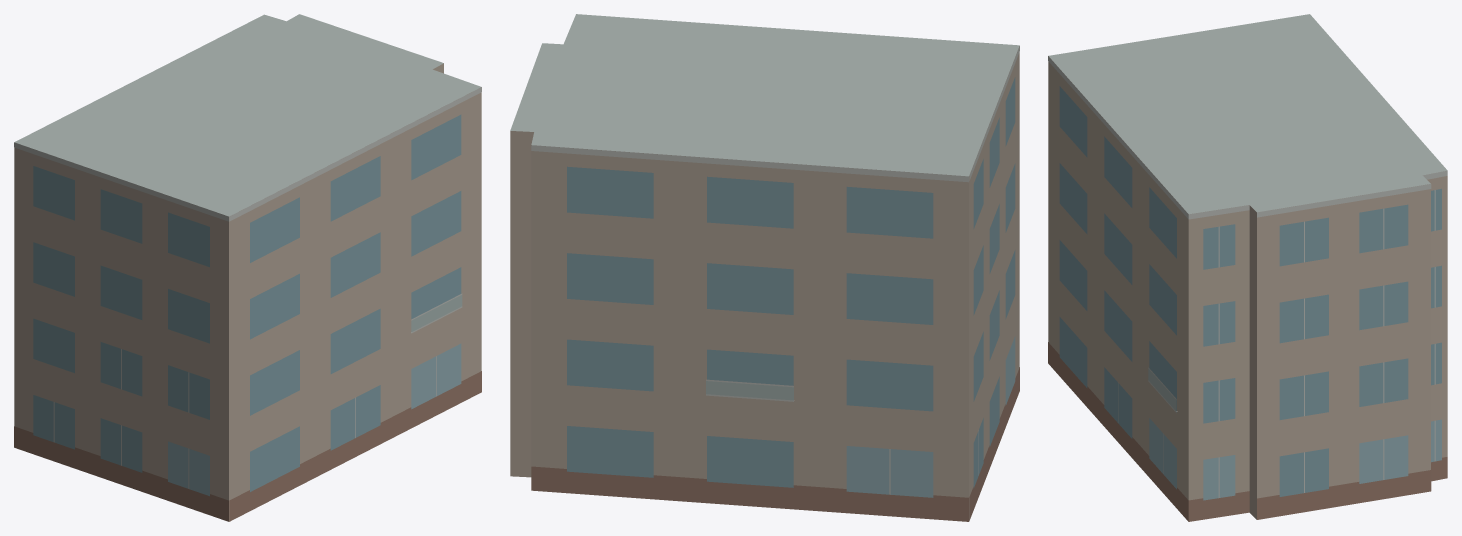
File: survey-upis-33015187.glb
3 views of the same model, side by side, from view 1: azimuth 30°, elevation 25°; view 2: azimuth 150°, elevation 25°; view 3: azimuth 270°, elevation 25° (orthographic). The views are drawn at different scales.
Parts seen in each view (by area): view 1: survey-upis-33015187.tmp; view 2: survey-upis-33015187.tmp; view 3: survey-upis-33015187.tmp.
Part boxes in pixels (x1,y1,x2,y2): survey-upis-33015187.tmp: (14,14,481,521); survey-upis-33015187.tmp: (510,14,1019,521); survey-upis-33015187.tmp: (1048,14,1447,521).
Size of the model in its own units: 20.05 by 14.35 by 16.9.
